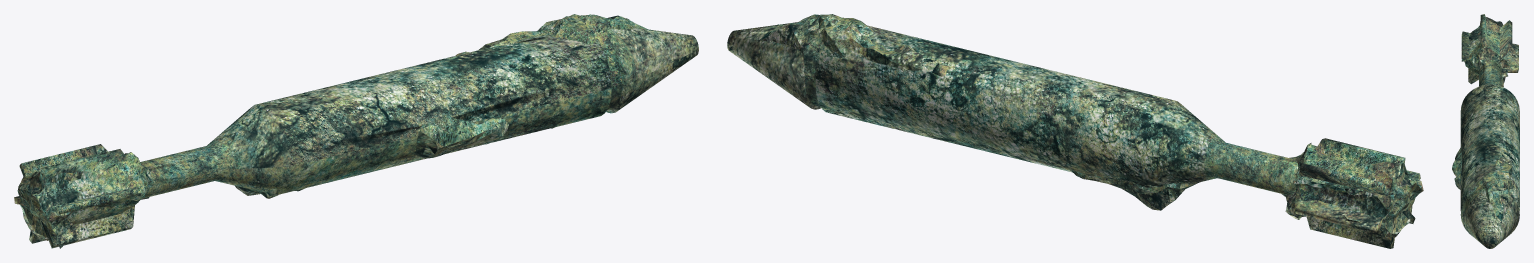
File: uxo_c.dae
3 renders of one model, left to right at view 1: azimuth 30°, elevation 25°; view 2: azimuth 150°, elevation 25°; view 3: azimuth 270°, elevation 25°, orthographic. The views are drawn at different scales.
Visible parts, largest first — view 1: Munition-C; view 2: Munition-C; view 3: Munition-C.
Part boxes in pixels (x1,y1,x2,y2): Munition-C: [14, 14, 698, 248]; Munition-C: [727, 14, 1423, 248]; Munition-C: [1452, 14, 1519, 248].
Bounding box in the file's own units: 3.78 × 0.5241 × 0.5675.
1 material, 1 textured.
